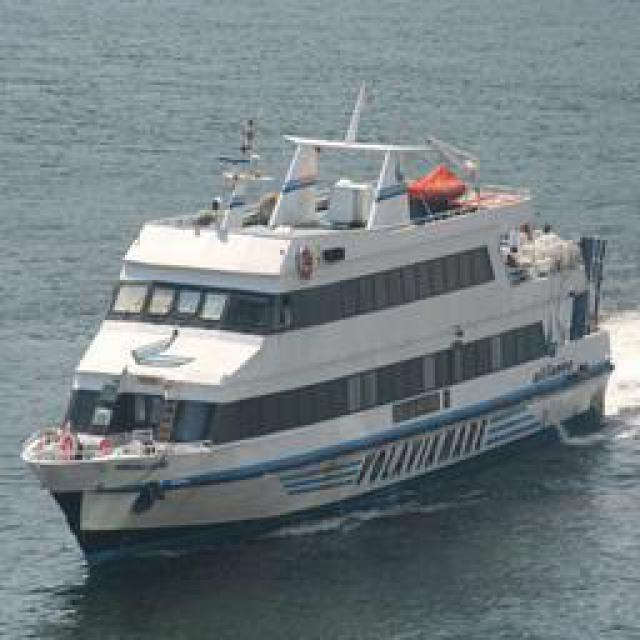Ship: (31, 79, 614, 574)
